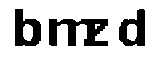b: (11, 6, 43, 49)
d: (119, 4, 150, 53)
m: (45, 17, 92, 49)
z: (84, 18, 113, 49)
